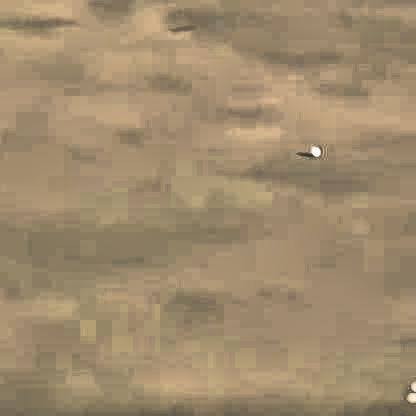golfball: (307, 143, 320, 156)
